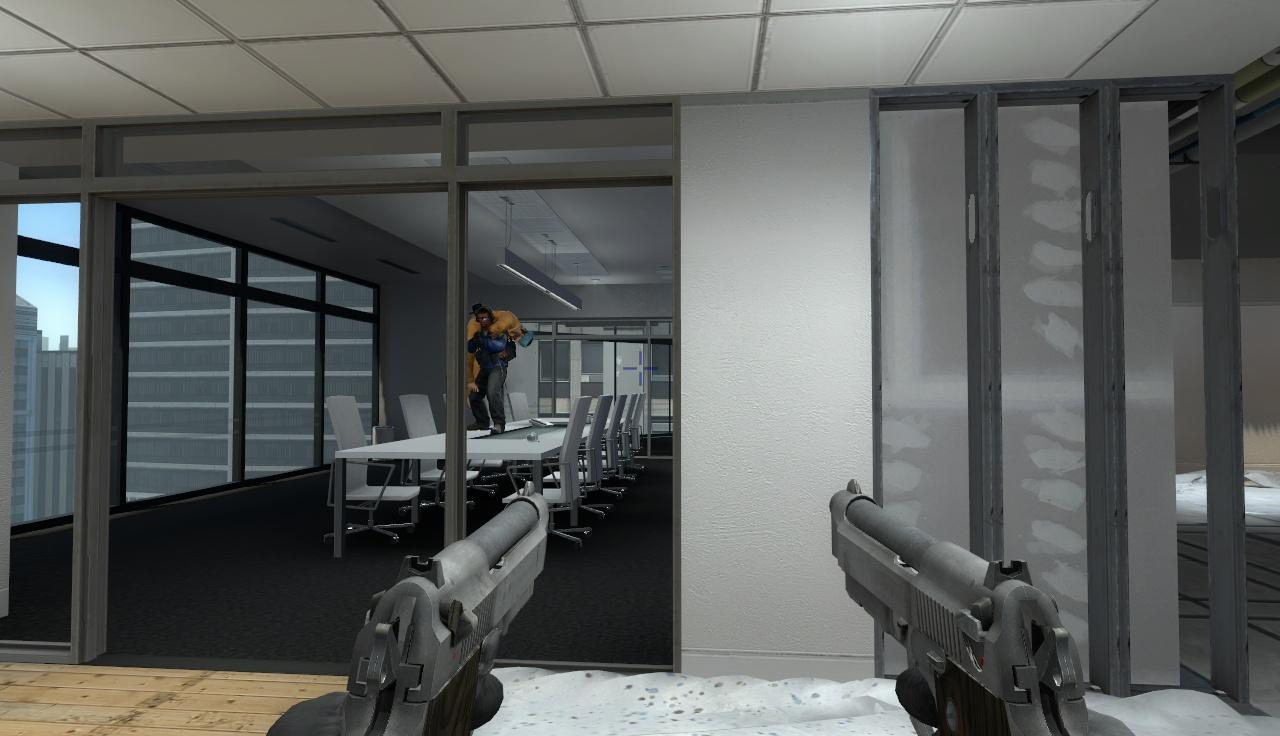ct: (468, 307, 517, 440)
cthead: (477, 308, 492, 328)
pistol: (810, 465, 1117, 736)
